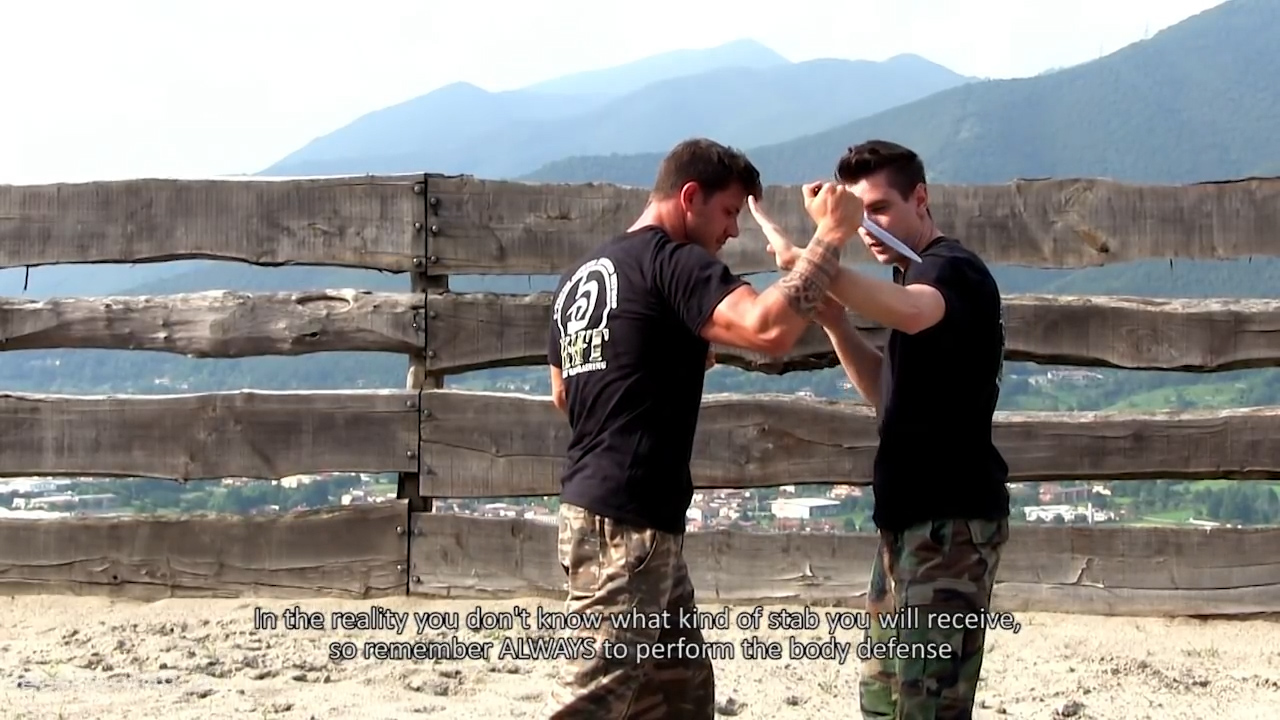knife: (799, 176, 930, 268)
